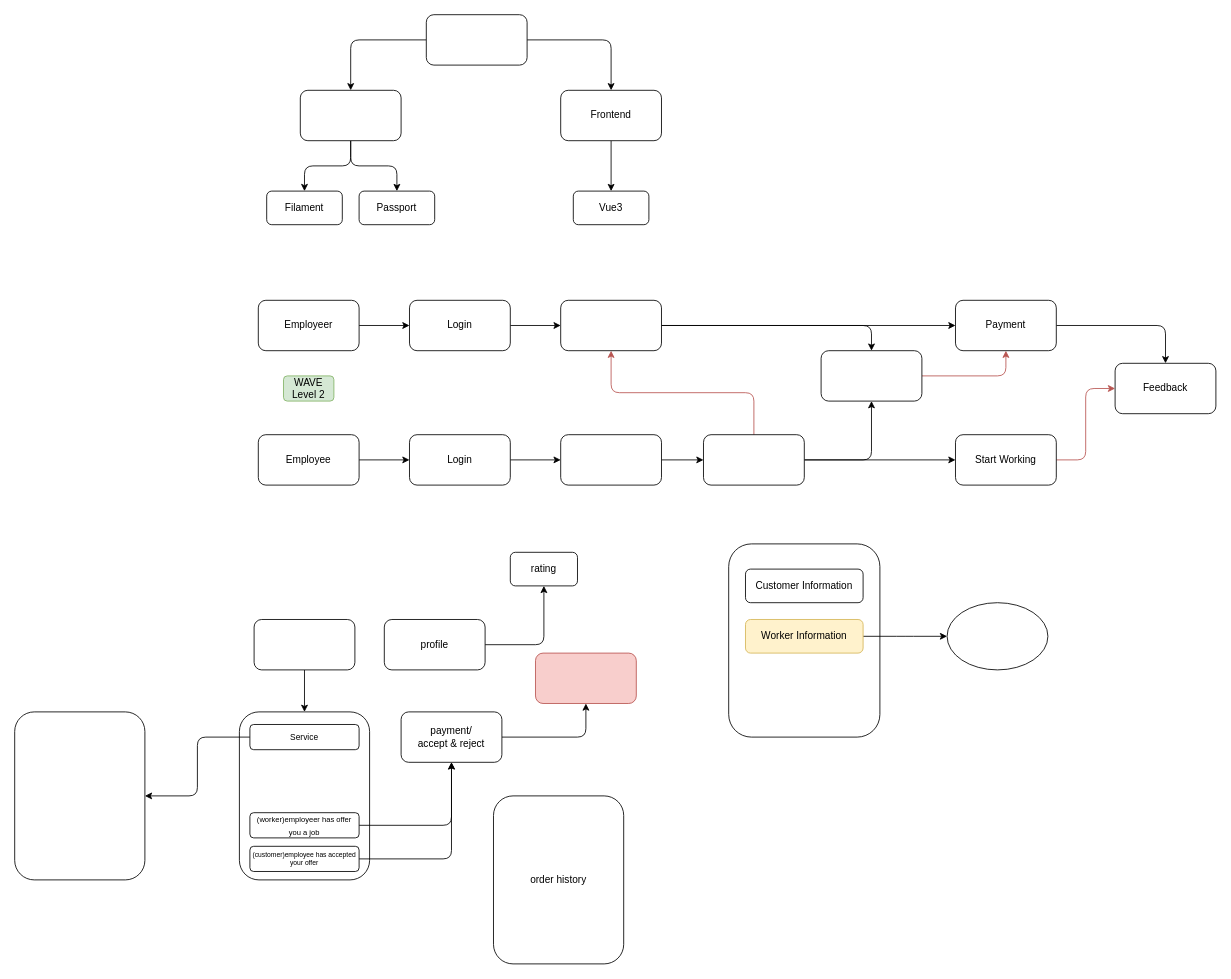
This 1231x979 diagram has some shape labels left out. The centre of each missing label's shape, as x and y in pixels:
"Admin Panel" goes at point 350,115.
"Apply Service" goes at point 753,459.
"category dropdown service dropdown" goes at point 79,795.
"Choose Service" goes at point 611,325.
"home" goes at point 304,644.
"KYC" goes at point 611,459.
"Laravel" goes at point 476,39.
"optional" goes at point 997,636.
"Waiting Acceptance" goes at point 871,375.
"WAVE" goes at point 585,678.
